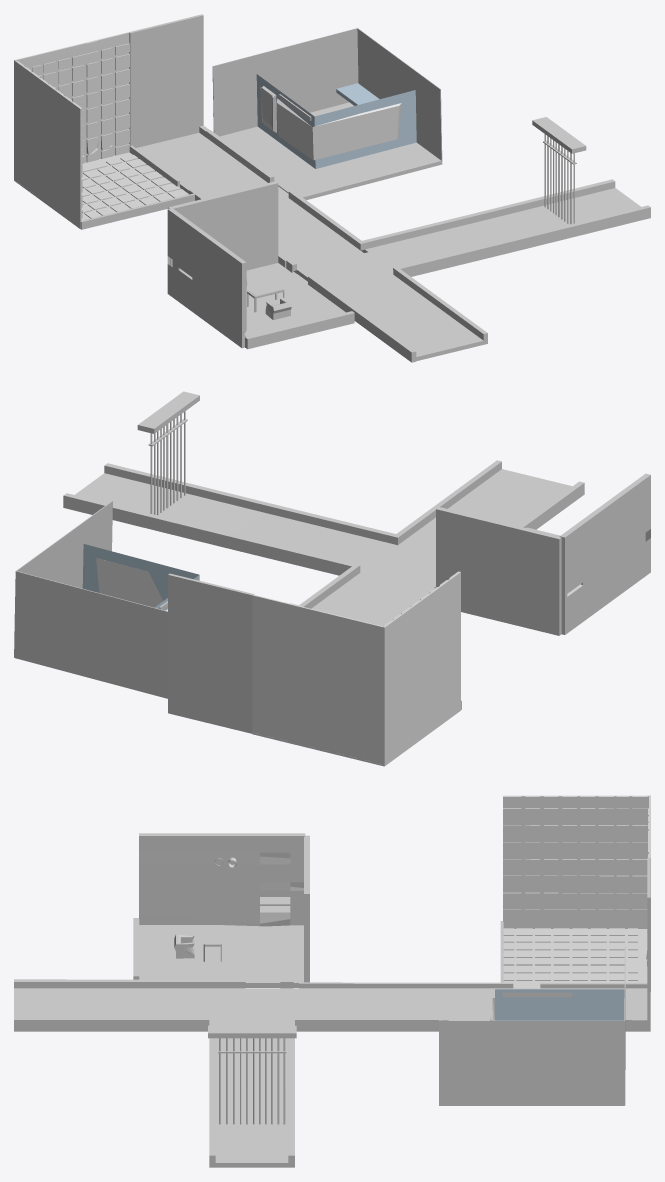
File: _llmap.fbx
3 views of the same model, one above another, from view 1: azimuth 30°, elevation 25°; view 2: azimuth 150°, elevation 25°; view 3: azimuth 270°, elevation 25° (orthographic). The views are drawn at different scales.
Parts seen in each view (by area): view 1: Cube.005, Outer wall 1, Cube.003, Cube.001, Cube.009, Ground, Cube.010, Cube.002, Outer wall 2, Cube.006, Prison cell, Cube.012 (+8 smaller); view 2: Cube.005, Cube.001, Outer wall 1, Cube.010, Cube.003, Cube.009, Outer wall 2, Cube.012, Prison cell, Cube.016, Cube.011; view 3: Cube.005, Cube.003, Outer wall 2, Cube.009, Cube.006, Cube.002, Prison cell, Cube.011, Cube.004, Cube.016, Cube.010.
Boxes of the visible parts, bbox=[...] form: Cube.005: bbox=[129, 14, 650, 361]; Outer wall 1: bbox=[212, 28, 358, 136]; Cube.003: bbox=[15, 60, 82, 228]; Cube.001: bbox=[14, 32, 129, 180]; Cube.009: bbox=[167, 208, 247, 348]; Ground: bbox=[220, 102, 441, 200]; Cube.010: bbox=[168, 181, 278, 270]; Cube.002: bbox=[14, 152, 188, 220]; Outer wall 2: bbox=[357, 28, 442, 164]; Cube.006: bbox=[244, 263, 345, 336]; Prison cell: bbox=[256, 74, 416, 168]; Cube.012: bbox=[312, 103, 401, 159]; Cube.005: bbox=[63, 460, 572, 733]; Cube.001: bbox=[252, 595, 385, 765]; Outer wall 1: bbox=[14, 571, 167, 698]; Cube.010: bbox=[436, 507, 561, 635]; Cube.003: bbox=[383, 571, 460, 764]; Cube.009: bbox=[559, 473, 650, 634]; Outer wall 2: bbox=[14, 501, 112, 657]; Cube.012: bbox=[96, 558, 162, 607]; Prison cell: bbox=[82, 544, 199, 610]; Cube.016: bbox=[137, 391, 199, 433]; Cube.011: bbox=[434, 481, 584, 588]; Cube.005: bbox=[14, 857, 650, 1167]; Cube.003: bbox=[503, 795, 648, 928]; Outer wall 2: bbox=[439, 1020, 624, 1105]; Cube.009: bbox=[139, 833, 305, 926]; Cube.006: bbox=[139, 925, 303, 987]; Cube.002: bbox=[503, 928, 647, 988]; Prison cell: bbox=[495, 989, 624, 1020]; Cube.011: bbox=[14, 979, 293, 988]; Cube.004: bbox=[299, 982, 647, 988]; Cube.016: bbox=[208, 1025, 296, 1038]; Cube.010: bbox=[304, 835, 309, 982].
Size of the model in its own units: 6184 by 1638 by 6951.
